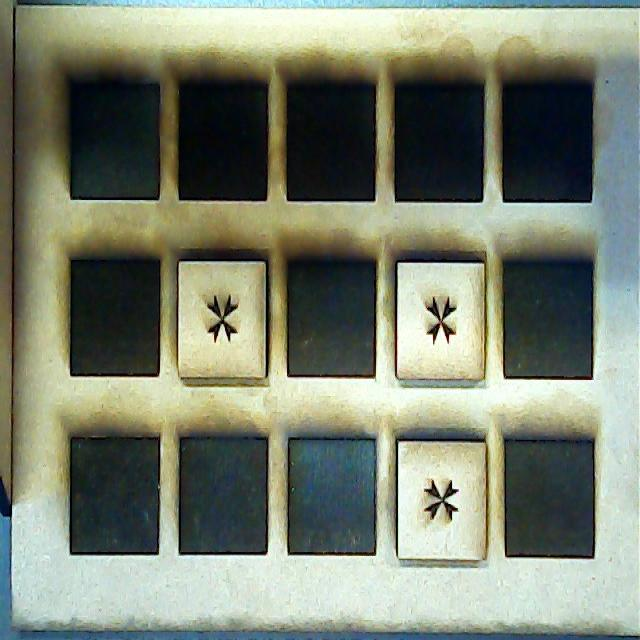maltese: (176, 256, 267, 382), (398, 439, 488, 559), (398, 260, 485, 381)
